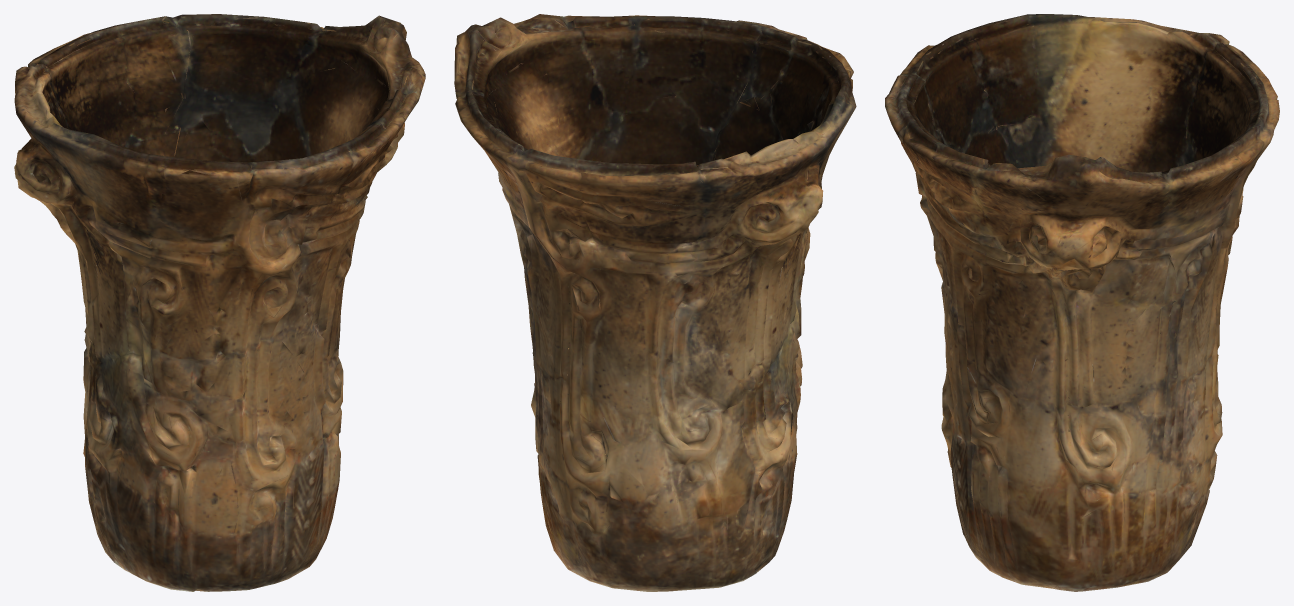
3 renders of one model, left to right at view 1: azimuth 30°, elevation 25°; view 2: azimuth 150°, elevation 25°; view 3: azimuth 270°, elevation 25°, orthographic.
Visible parts, largest first — view 1: NM0014_low; view 2: NM0014_low; view 3: NM0014_low.
Part boxes in pixels (left/top/right/bottom): NM0014_low: left=14, top=14, right=425, bottom=591; NM0014_low: left=454, top=14, right=856, bottom=591; NM0014_low: left=885, top=14, right=1279, bottom=591.
Bounding box in the file's own units: 181 × 224 × 167.
1 material, 1 textured.
